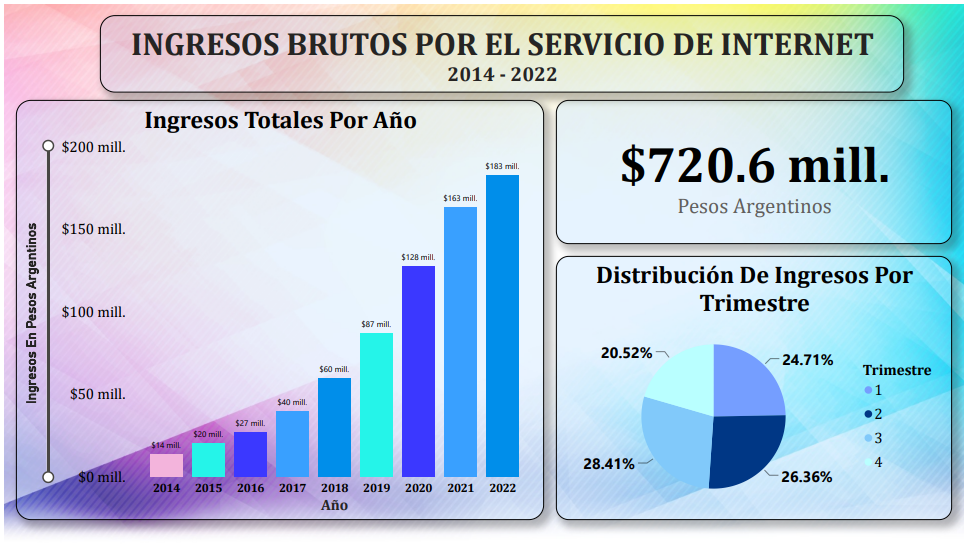

Layout of this report page (visuals, bound fields, positions):
{"tool":"powerbi","page":{"name":"Ingresos","canvas":[1280,720],"ordinal":6},"visuals":[{"type":"columnChart","title":"Ingresos Totales Por Año","fields":{"Category":["bd_telecomunicaciones data_ingresos.Año"],"Y":["Sum(bd_telecomunicaciones data_ingresos.Ingresos (miles de pesos))"]},"box":[16,128,704,560],"z":0},{"type":"pieChart","title":"Distribución De Ingresos Por Trimestre","fields":{"Y":["bd_telecomunicaciones data_ingresos.Total_Ingresos"],"Category":["bd_telecomunicaciones data_ingresos.Trimestre"]},"box":[736,336,528,352],"z":1000},{"type":"card","fields":{"Values":["Sum(bd_telecomunicaciones data_ingresos.Ingresos (miles de pesos))"]},"box":[736,128,528,192],"z":2000},{"type":"textbox","box":[128,16,1072,96],"z":3000}]}

Visuals, with their boxes in screenshot pixels (x1, y1, x2, y2), scaled from the page's 1280x720 canvas onto the 967x545 screenshot:
"Ingresos Totales Por Año" columnChart: locate(12, 97, 544, 521)
"Distribución De Ingresos Por Trimestre" pieChart: locate(556, 254, 955, 521)
card - Sum(bd_telecomunicaciones data_ingresos.Ingresos (miles de pesos)): locate(556, 97, 955, 242)
textbox: locate(97, 12, 907, 85)
